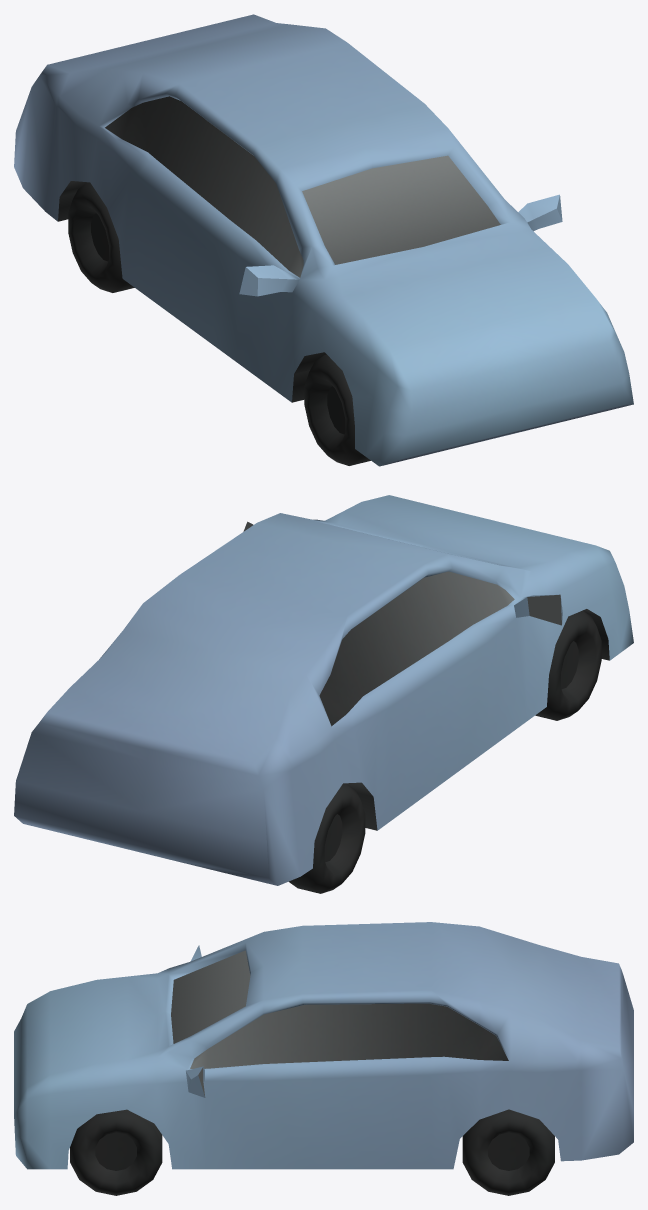
Rendered from auto.fbx.
3 views of the same model, one above another, from view 1: azimuth 30°, elevation 25°; view 2: azimuth 150°, elevation 25°; view 3: azimuth 270°, elevation 25° (orthographic). The views are drawn at different scales.
Visible parts, largest first — view 1: auto; view 2: auto; view 3: auto.
Boxes of the visible parts, left/top/right/bottom form: auto: left=14, top=14, right=633, bottom=466; auto: left=14, top=495, right=633, bottom=893; auto: left=14, top=922, right=633, bottom=1195.
Bounding box in the file's own units: 241 × 165 × 481.
